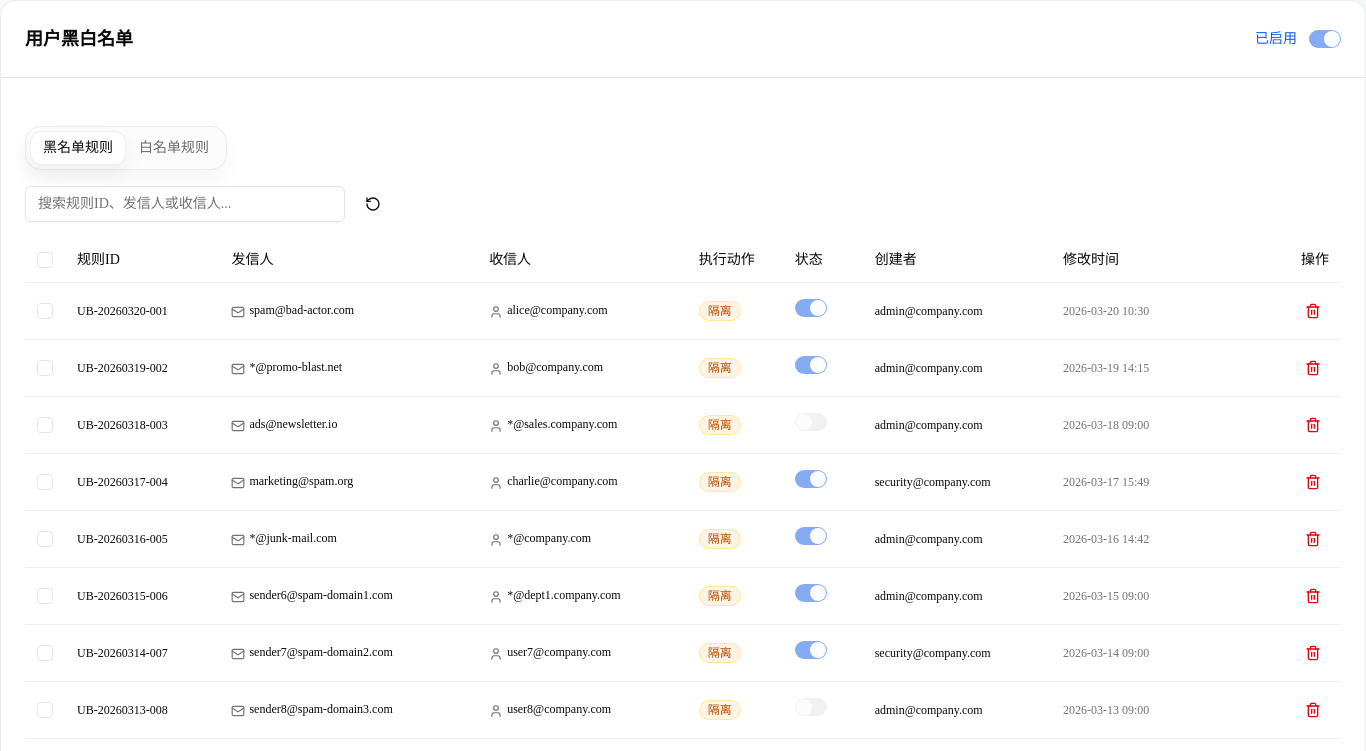
Scenario: UserListPage › empty search shows 暂无数据
Check: the text "UB-20260320-001" is shown, box [65, 282, 219, 339]
Type "zzz-none" into the search field with placeholder "搜索规则ID、发信人或收信人..." at x=185, y=204, box [25, 186, 345, 222]
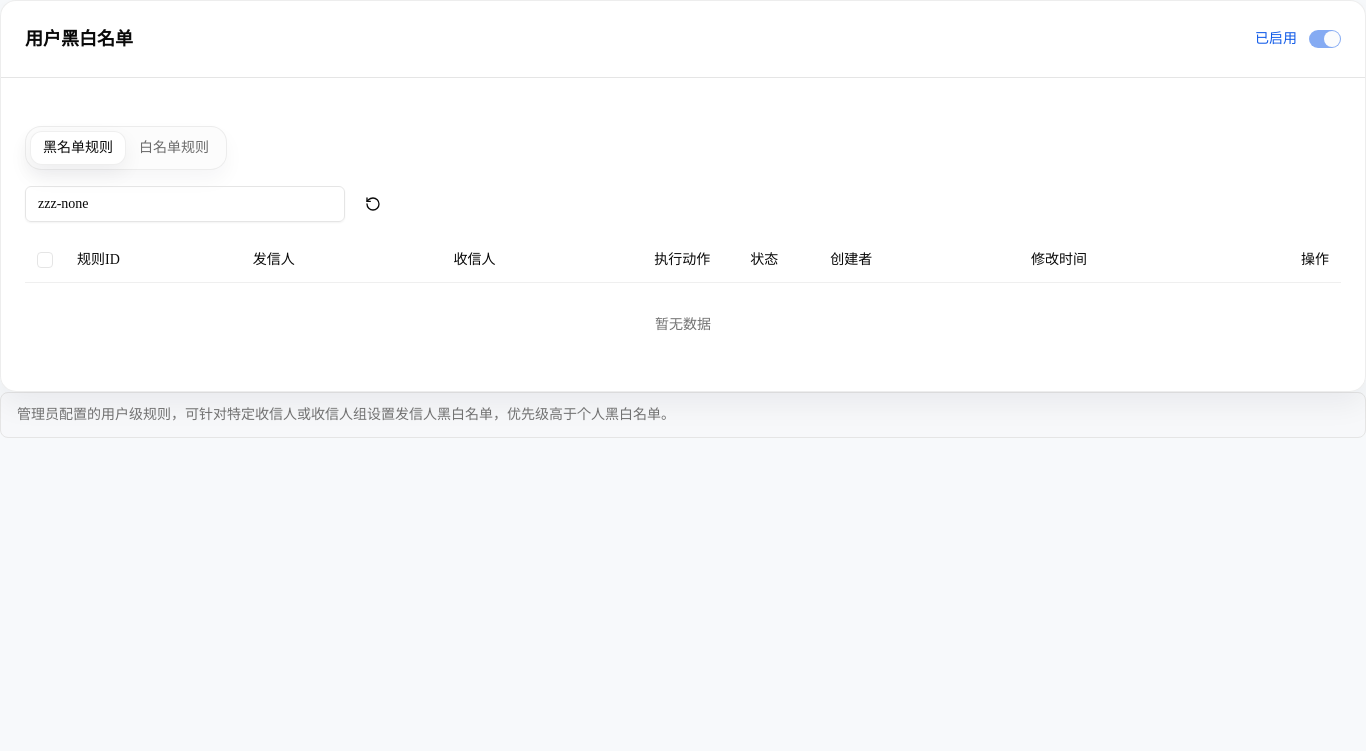
Check: the text "暂无数据" is shown, box [25, 282, 1341, 366]
